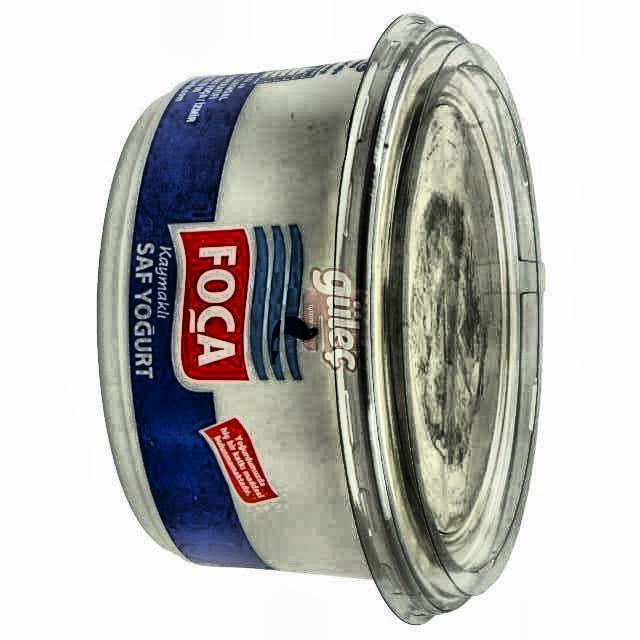plastic: (98, 17, 543, 622)
